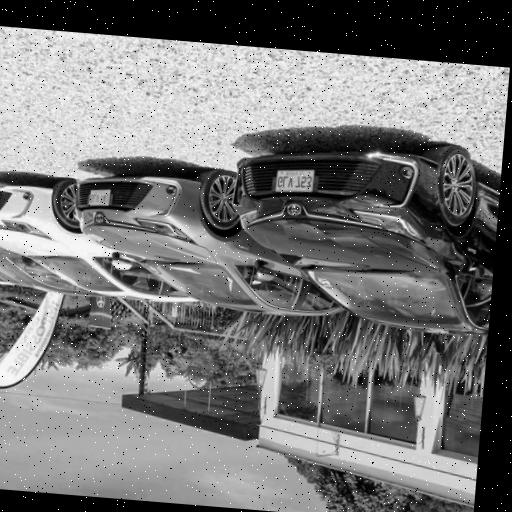placa: (275, 170, 315, 193), (88, 189, 112, 206)
